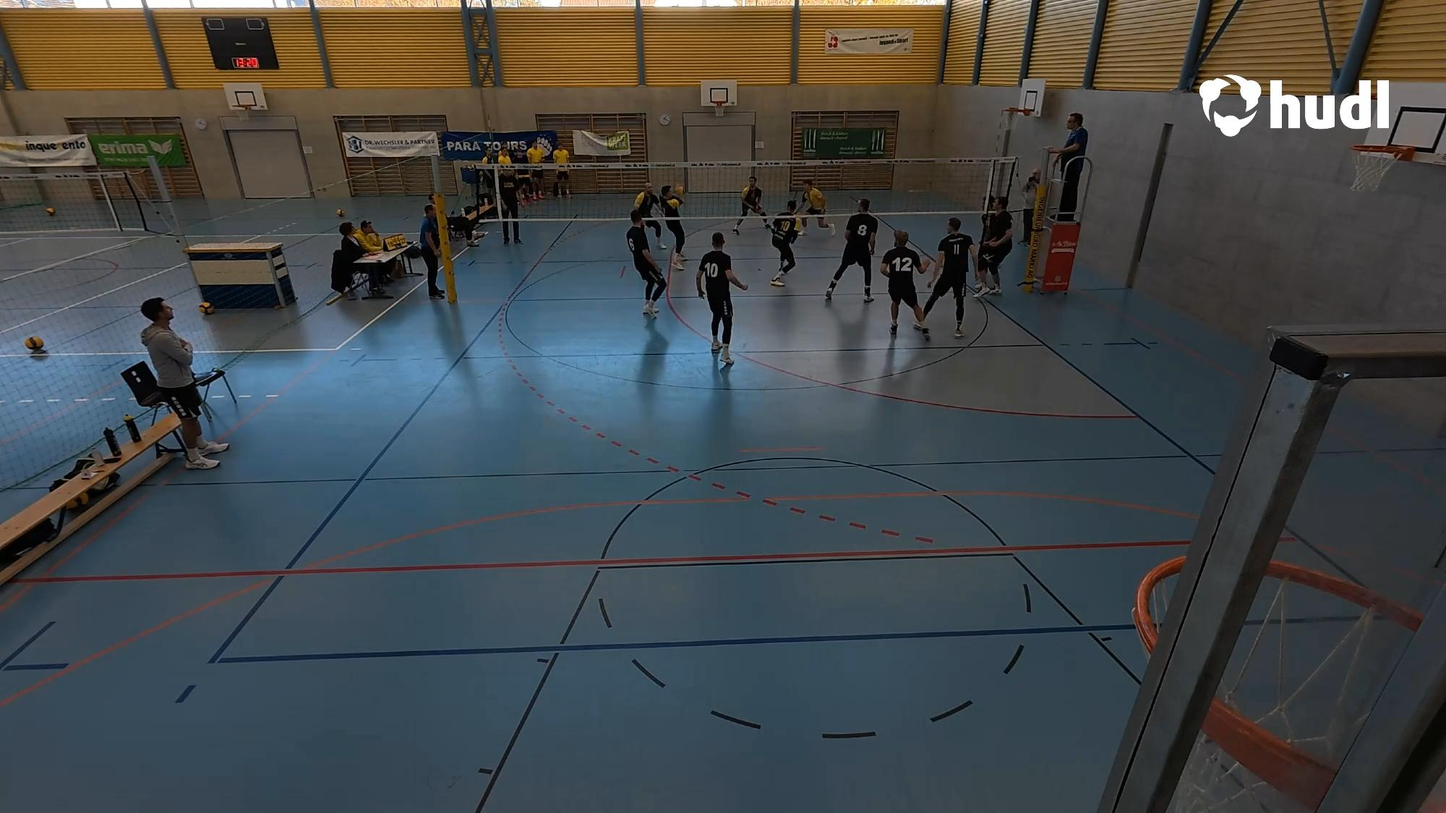Dig: (662, 184, 690, 267)
Player: (918, 212, 976, 344), (700, 228, 747, 367), (976, 187, 1022, 300), (882, 228, 928, 337), (834, 201, 881, 302), (764, 196, 805, 294), (629, 213, 666, 315), (634, 178, 668, 252), (798, 176, 831, 236), (735, 176, 766, 237)
ball: (671, 186, 686, 199)
